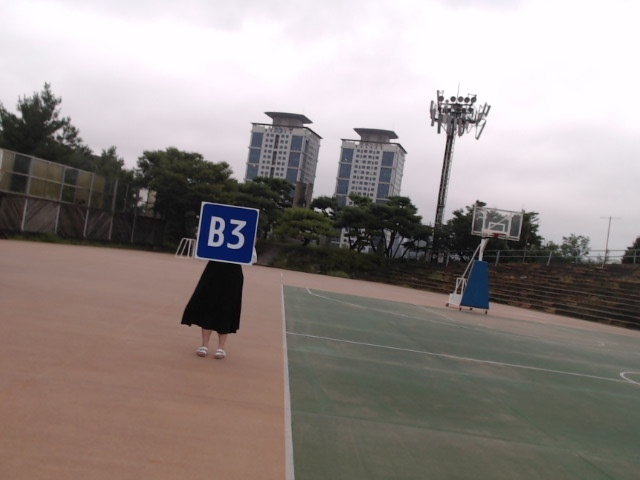delivery_b3: (196, 198, 259, 265)
